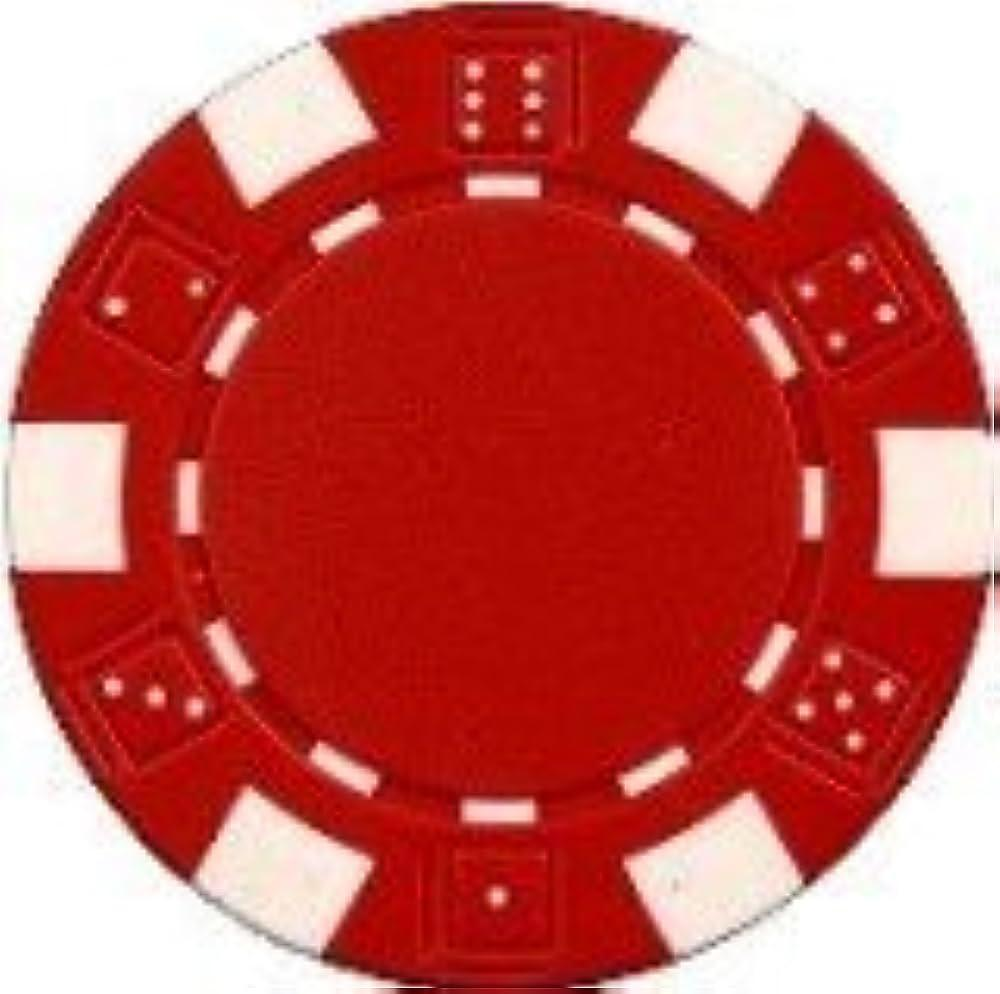chip-red: (12, 6, 988, 985)
